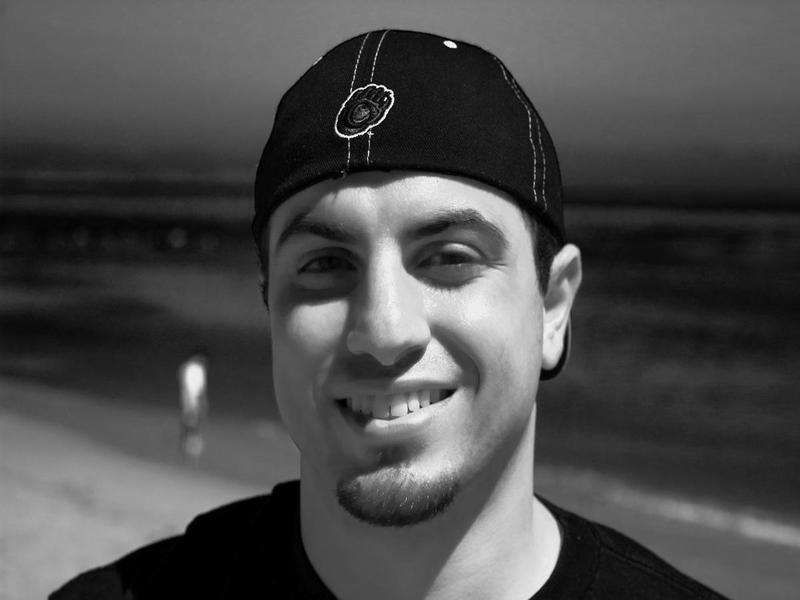person: (38, 31, 726, 600)
